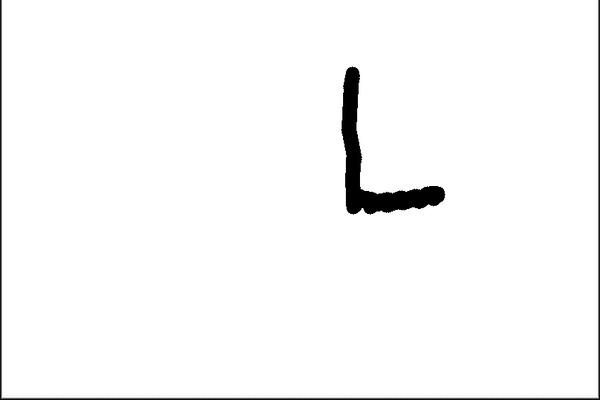L: (330, 62, 452, 221)
